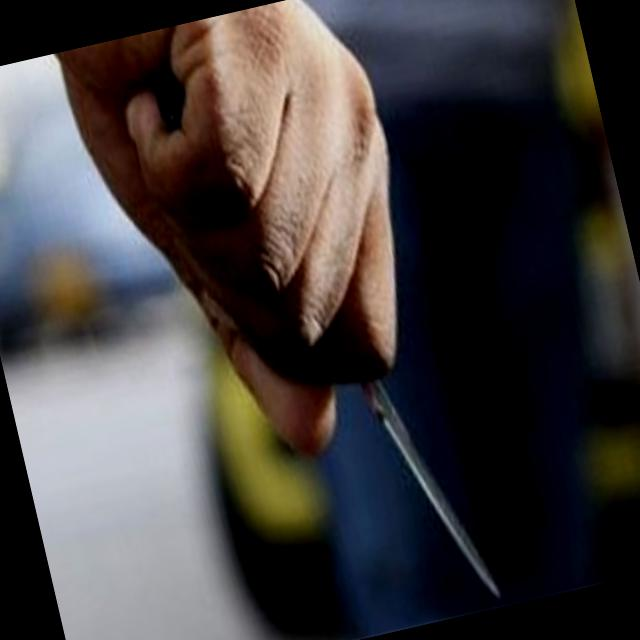knife: (199, 117, 512, 639)
